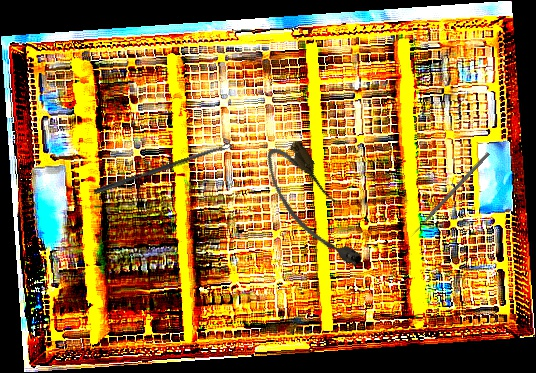Cannula: (256, 134, 371, 282)
Pusher: (408, 151, 491, 239)
Surgical Spoon: (92, 142, 233, 196)
